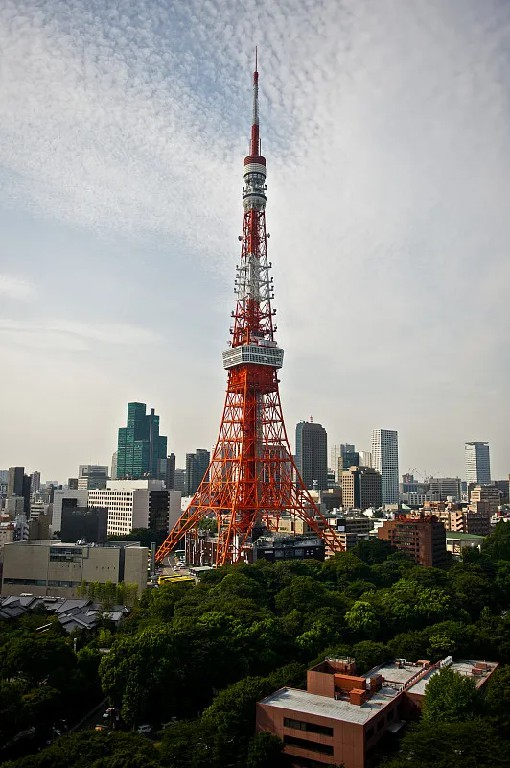Tokyo: (149, 40, 346, 561)
